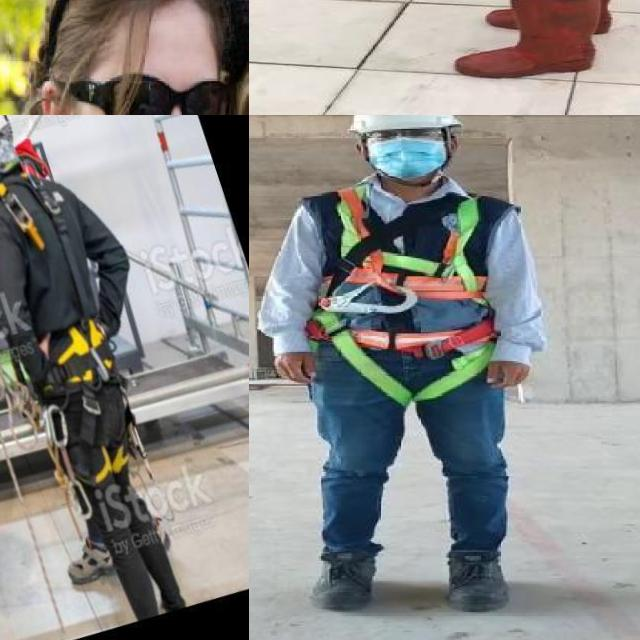Harness: (30, 184, 117, 398)
No_Ear-Protection: (35, 76, 82, 115)
boots: (449, 0, 607, 77)
face_mask: (364, 128, 454, 180)
face_nomask: (92, 68, 225, 115)
glasses: (92, 69, 235, 115), (366, 121, 442, 146)
hand_noglove: (476, 351, 535, 393), (269, 348, 322, 388)
head_helmet: (347, 115, 461, 134)
head_nohelmet: (66, 0, 240, 50)
person: (253, 115, 553, 621), (414, 0, 640, 90)
shoes: (300, 542, 388, 617), (439, 541, 516, 615)
vest: (296, 184, 521, 352)
